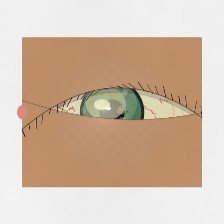corneal_ulcer: (73, 77, 138, 129)
